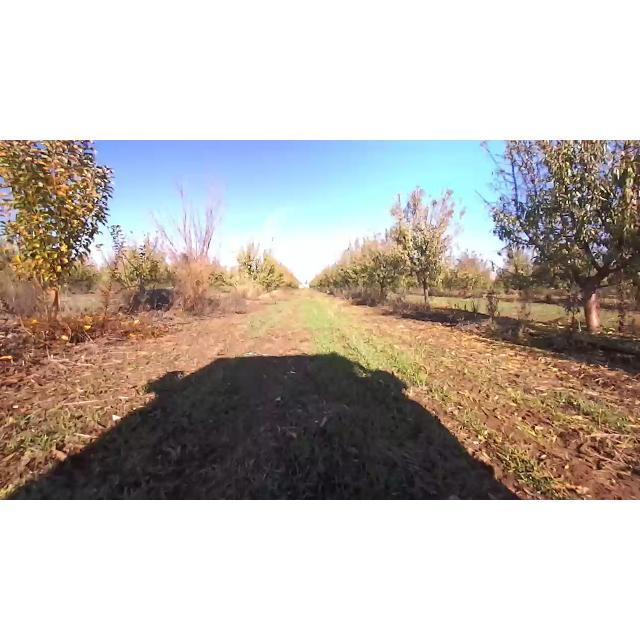direk: (472, 141, 640, 331), (0, 141, 116, 333), (153, 171, 230, 313), (386, 179, 458, 311), (102, 226, 170, 314), (239, 230, 277, 296), (363, 234, 395, 304)
